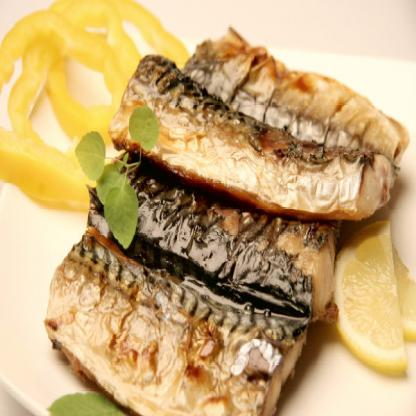Peixe: (50, 38, 388, 416)
